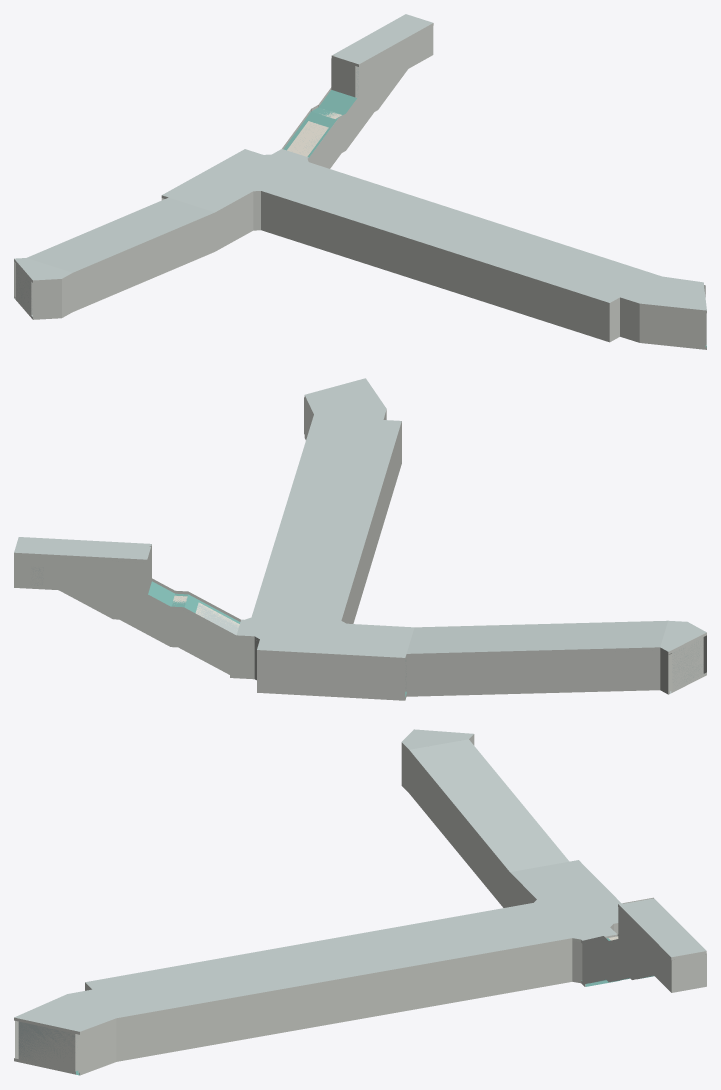
The model's file is shibuya-west-passage.glb.
The picture shows the model from 3 angles, top to bottom: view 1: azimuth 30°, elevation 25°; view 2: azimuth 150°, elevation 25°; view 3: azimuth 270°, elevation 25°; orthographic projection. The views are drawn at different scales.
Visible parts, largest first — view 1: bdry_a7f8225e-91e1-482c-9630-b6547d3a4ad1, bdry_488604ec-8c00-4c7e-9f2c-6c7fd6b5f644, bdry_440e18c8-5f9a-434b-a785-f270026ef027, bdry_63a4230d-6aec-46ff-849a-440124ab612b, bdry_ebb5430c-227d-4dd6-ae54-6a292711cc11, bdry_31c35e46-11ab-4c98-843a-36a86069d336, bdry_b0ad7cd4-8235-4b59-a069-5c64183008bf, bdry_53bc2bcc-cf22-4a0a-8c62-40bd5e6e29fb, bdry_b3c3d90e-8c8f-4451-9edd-f69bf7c1c233, bdry_b89913d7-9c46-4ce9-94b6-8ea81213a119, bdry_d2131da7-1914-4fc8-9460-1db349cc2b09, bdry_46be2e50-96d1-4591-8439-d343962bb008 (+6 smaller); view 2: bdry_a7f8225e-91e1-482c-9630-b6547d3a4ad1, bdry_6ae2e7c4-6137-4776-ba2b-92625cb7ee43, bdry_b62514c4-84be-4145-9de5-d0733abd1501, bdry_63a4230d-6aec-46ff-849a-440124ab612b, bdry_88f7b9ef-b7f7-413e-a815-de3b66cb2159, bdry_53bc2bcc-cf22-4a0a-8c62-40bd5e6e29fb, bdry_488604ec-8c00-4c7e-9f2c-6c7fd6b5f644, bdry_7577a115-c3d0-4707-bb4b-e1b439c67a0e, bdry_0512bc41-e85a-4db9-ae66-adbde1b0d181, bdry_f91ec3a5-3b70-4ecc-bbda-6394bdef8806, bdry_cd4806a7-d05d-4b98-b159-689c1345acf9, bdry_31c35e46-11ab-4c98-843a-36a86069d336 (+4 smaller); view 3: bdry_a7f8225e-91e1-482c-9630-b6547d3a4ad1, bdry_7db04c89-c4cd-4c04-bf9b-8b8c741998fd, bdry_63a4230d-6aec-46ff-849a-440124ab612b, bdry_440e18c8-5f9a-434b-a785-f270026ef027, bdry_ebb5430c-227d-4dd6-ae54-6a292711cc11, bdry_53bc2bcc-cf22-4a0a-8c62-40bd5e6e29fb, bdry_019c64f1-7e10-4190-86c8-f09bf74bee0d, bdry_25a7961d-4aec-4b78-94b5-e30b1c840336, bdry_3cc9fbd0-b26e-4949-86d2-0918fcd59753, bdry_d128634a-3b1c-4b10-b05c-f12c5eeb5bf7, room_e0689409-f75a-4a24-a467-ce69623db041, bdry_0533c44e-dadc-405c-b206-0fcc5f71e0b7 (+1 smaller).
Part boxes in pixels (left/top/right/bottom): bdry_a7f8225e-91e1-482c-9630-b6547d3a4ad1: left=162, top=149, right=706, bottom=310; bdry_488604ec-8c00-4c7e-9f2c-6c7fd6b5f644: left=261, top=193, right=492, bottom=301; bdry_440e18c8-5f9a-434b-a785-f270026ef027: left=72, top=194, right=253, bottom=309; bdry_63a4230d-6aec-46ff-849a-440124ab612b: left=27, top=197, right=214, bottom=272; bdry_ebb5430c-227d-4dd6-ae54-6a292711cc11: left=309, top=26, right=433, bottom=168; bdry_31c35e46-11ab-4c98-843a-36a86069d336: left=492, top=268, right=609, bottom=339; bdry_b0ad7cd4-8235-4b59-a069-5c64183008bf: left=651, top=307, right=705, bottom=346; bdry_53bc2bcc-cf22-4a0a-8c62-40bd5e6e29fb: left=332, top=14, right=432, bottom=64; bdry_b3c3d90e-8c8f-4451-9edd-f69bf7c1c233: left=261, top=227, right=609, bottom=342; bdry_b89913d7-9c46-4ce9-94b6-8ea81213a119: left=261, top=191, right=609, bottom=305; bdry_d2131da7-1914-4fc8-9460-1db349cc2b09: left=331, top=58, right=355, bottom=97; bdry_46be2e50-96d1-4591-8439-d343962bb008: left=33, top=282, right=55, bottom=317; bdry_a7f8225e-91e1-482c-9630-b6547d3a4ad1: left=236, top=378, right=414, bottom=657; bdry_6ae2e7c4-6137-4776-ba2b-92625cb7ee43: left=406, top=650, right=660, bottom=693; bdry_b62514c4-84be-4145-9de5-d0733abd1501: left=18, top=556, right=236, bottom=675; bdry_63a4230d-6aec-46ff-849a-440124ab612b: left=406, top=620, right=667, bottom=653; bdry_88f7b9ef-b7f7-413e-a815-de3b66cb2159: left=257, top=653, right=400, bottom=697; bdry_53bc2bcc-cf22-4a0a-8c62-40bd5e6e29fb: left=14, top=537, right=151, bottom=559; bdry_488604ec-8c00-4c7e-9f2c-6c7fd6b5f644: left=342, top=491, right=381, bottom=623; bdry_7577a115-c3d0-4707-bb4b-e1b439c67a0e: left=672, top=637, right=703, bottom=689; bdry_0512bc41-e85a-4db9-ae66-adbde1b0d181: left=406, top=647, right=660, bottom=656; bdry_f91ec3a5-3b70-4ecc-bbda-6394bdef8806: left=406, top=687, right=660, bottom=696; bdry_cd4806a7-d05d-4b98-b159-689c1345acf9: left=660, top=620, right=706, bottom=651; bdry_31c35e46-11ab-4c98-843a-36a86069d336: left=381, top=424, right=401, bottom=526; bdry_a7f8225e-91e1-482c-9630-b6547d3a4ad1: left=14, top=860, right=620, bottom=1031; bdry_7db04c89-c4cd-4c04-bf9b-8b8c741998fd: left=116, top=941, right=572, bottom=1058; bdry_63a4230d-6aec-46ff-849a-440124ab612b: left=409, top=739, right=569, bottom=871; bdry_440e18c8-5f9a-434b-a785-f270026ef027: left=409, top=753, right=534, bottom=907; bdry_ebb5430c-227d-4dd6-ae54-6a292711cc11: left=582, top=907, right=671, bottom=992; bdry_53bc2bcc-cf22-4a0a-8c62-40bd5e6e29fb: left=618, top=898, right=706, bottom=957; bdry_019c64f1-7e10-4190-86c8-f09bf74bee0d: left=18, top=1022, right=75, bottom=1071; bdry_25a7961d-4aec-4b78-94b5-e30b1c840336: left=116, top=979, right=572, bottom=1061; bdry_3cc9fbd0-b26e-4949-86d2-0918fcd59753: left=116, top=938, right=572, bottom=1021; bdry_d128634a-3b1c-4b10-b05c-f12c5eeb5bf7: left=78, top=1021, right=116, bottom=1072; room_e0689409-f75a-4a24-a467-ce69623db041: left=18, top=1021, right=78, bottom=1069; bdry_0533c44e-dadc-405c-b206-0fcc5f71e0b7: left=676, top=954, right=706, bottom=991.
Size of the model in its own units: 60.98 by 11.7 by 63.24.
